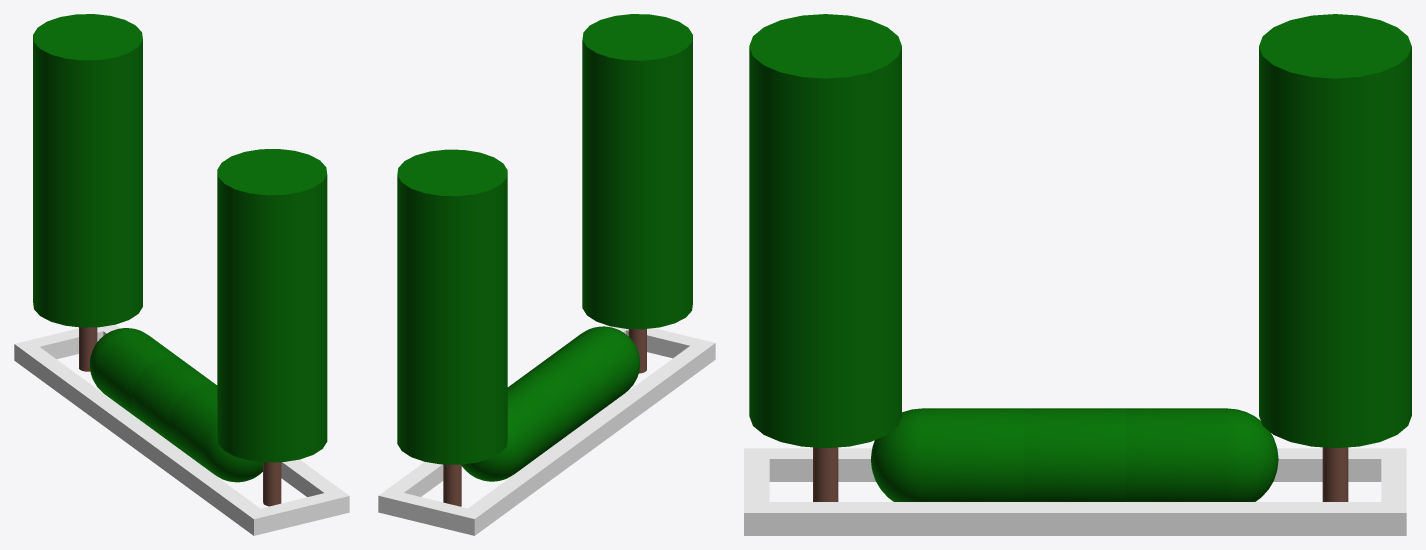
The model's file is StreetFoilage_2.fbx.
3 views of the same model, side by side, from view 1: azimuth 30°, elevation 25°; view 2: azimuth 150°, elevation 25°; view 3: azimuth 270°, elevation 25° (orthographic). The views are drawn at different scales.
Visible parts, largest first — view 1: Tree__9_, Tree__7_, BuildingBorer__19_, Bush__20_, Bush__18_, Bush__19_, BuildingBorer__20_, BuildingBorer__13_, BuildingBorer__21_, Tree__8_, Tree__6_; view 2: Tree__7_, Tree__9_, BuildingBorer__19_, Bush__18_, Bush__20_, Bush__19_, BuildingBorer__13_, BuildingBorer__20_, BuildingBorer__21_, Tree__6_, Tree__8_; view 3: Tree__7_, Tree__9_, BuildingBorer__21_, Bush__18_, Bush__20_, Bush__19_, BuildingBorer__19_, BuildingBorer__20_, BuildingBorer__13_, Tree__6_, Tree__8_.
Boxes of the visible parts, x1,y1,x2,y2 form: Tree__9_: (217,149,327,462); Tree__7_: (33,14,142,327); BuildingBorer__19_: (23,347,259,528); Bush__20_: (168,384,262,482); Bush__18_: (89,328,184,420); Bush__19_: (131,357,217,446); BuildingBorer__20_: (244,489,349,535); BuildingBorer__13_: (14,324,118,366); BuildingBorer__21_: (103,327,339,496); Tree__8_: (263,462,281,506); Tree__6_: (79,327,97,371); Tree__7_: (397,149,507,464); Tree__9_: (582,14,692,329); BuildingBorer__19_: (468,346,706,528); Bush__18_: (461,383,561,481); Bush__20_: (546,326,640,418); Bush__19_: (509,356,598,445); BuildingBorer__13_: (378,489,483,535); BuildingBorer__20_: (612,326,715,365); BuildingBorer__21_: (388,326,625,496); Tree__6_: (443,464,461,506); Tree__8_: (628,329,646,373); Tree__7_: (1259,14,1411,448); Tree__9_: (749,14,901,448); BuildingBorer__21_: (769,502,1381,535); Bush__18_: (1125,408,1278,501); Bush__20_: (871,408,1023,501); Bush__19_: (1023,408,1125,501); BuildingBorer__19_: (769,448,1381,481); BuildingBorer__20_: (744,448,769,535); BuildingBorer__13_: (1381,448,1406,535); Tree__6_: (1322,447,1348,501); Tree__8_: (813,447,838,501).
Size of the model in its own units: 150 by 497 by 655.
